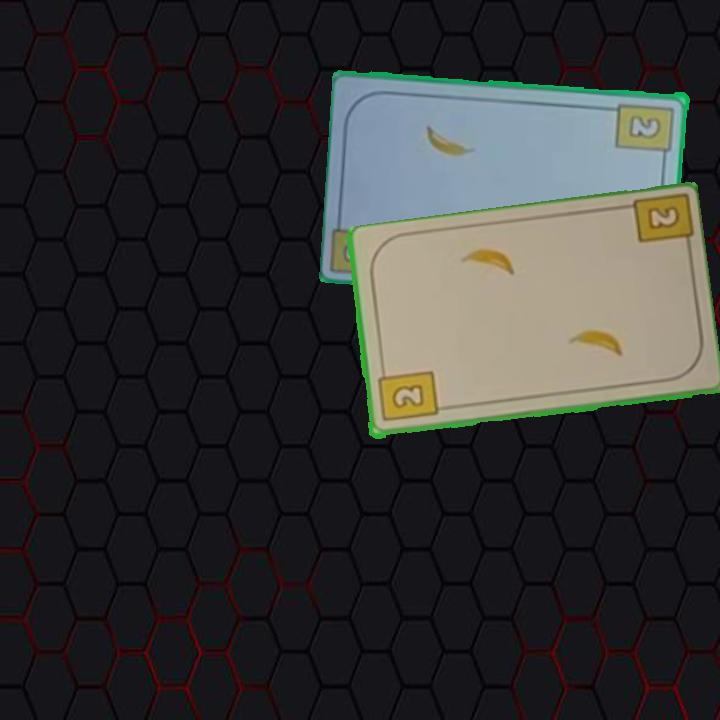2b: (613, 99, 677, 164), (374, 364, 440, 425), (643, 202, 683, 233)
